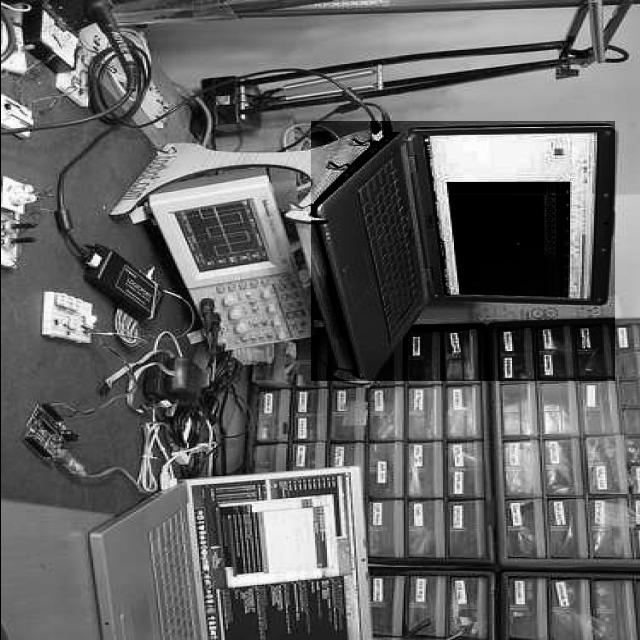-keyboard-: (312, 121, 616, 382), (92, 472, 363, 640)
